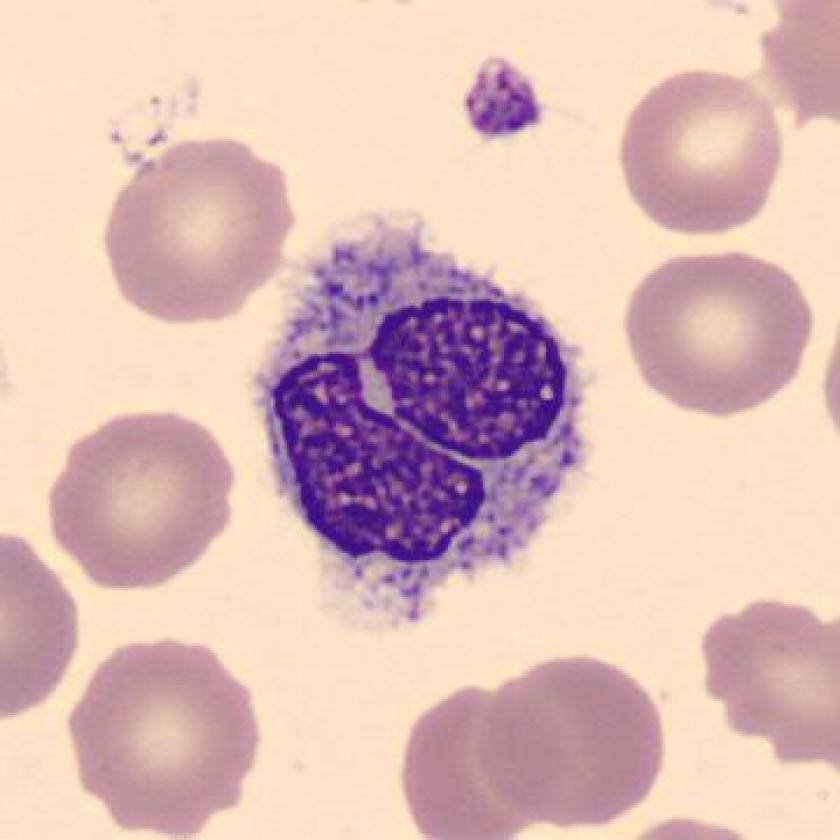monocyte: (232, 191, 610, 635)
